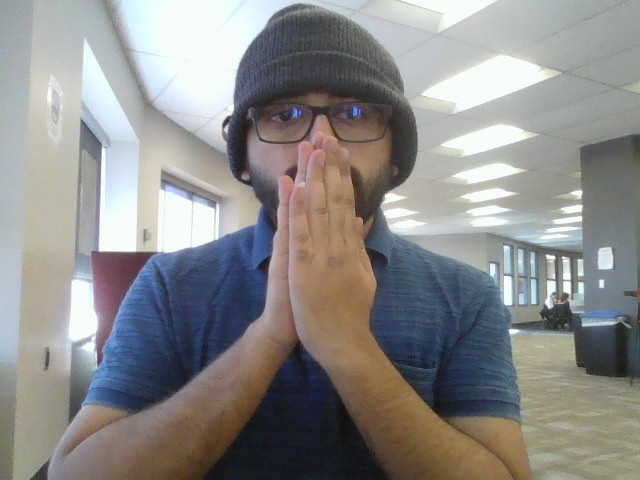start: (258, 131, 390, 372)
